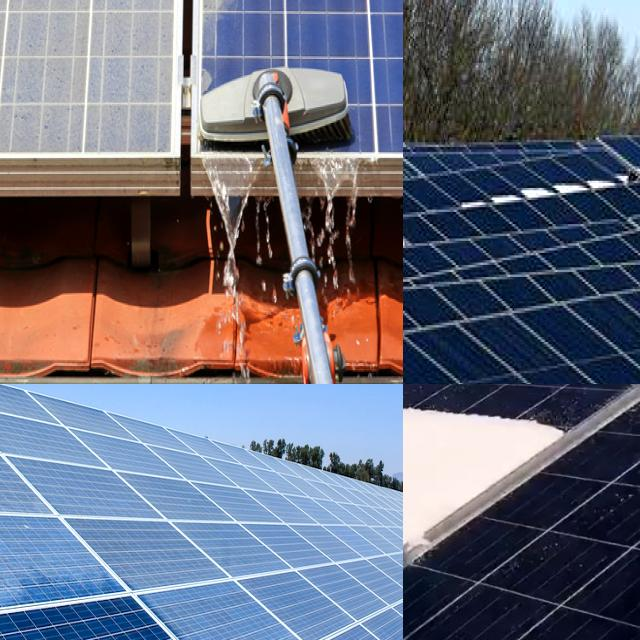dust: (19, 24, 158, 150), (202, 0, 343, 100), (43, 0, 167, 110), (0, 23, 105, 145), (54, 414, 180, 508), (0, 0, 118, 97), (208, 453, 294, 556), (0, 519, 100, 594), (157, 580, 306, 629), (322, 556, 403, 640), (0, 449, 71, 499), (0, 387, 68, 438), (0, 497, 33, 580), (0, 417, 49, 448)
panel: (403, 484, 502, 631), (403, 384, 569, 463), (448, 384, 640, 412), (568, 164, 616, 206), (492, 164, 524, 222), (528, 174, 562, 220), (456, 184, 490, 223), (403, 384, 477, 400), (403, 201, 419, 266)
